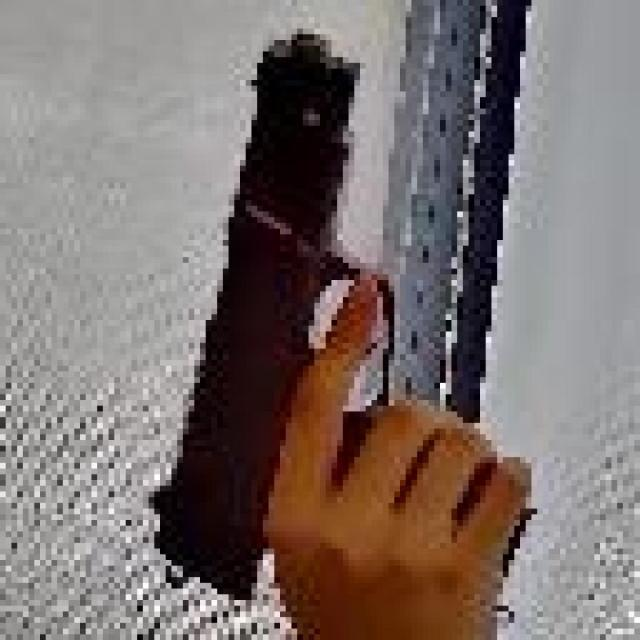pistol: (138, 18, 564, 640)
